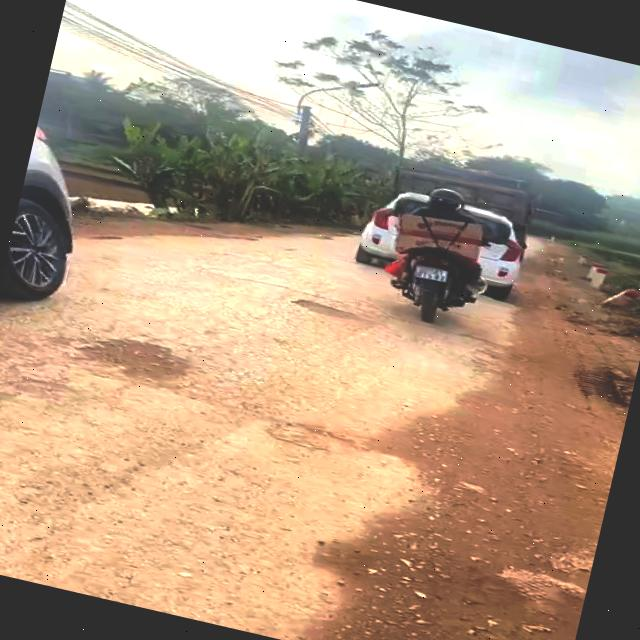pothole: (77, 325, 196, 390), (292, 292, 358, 325)
